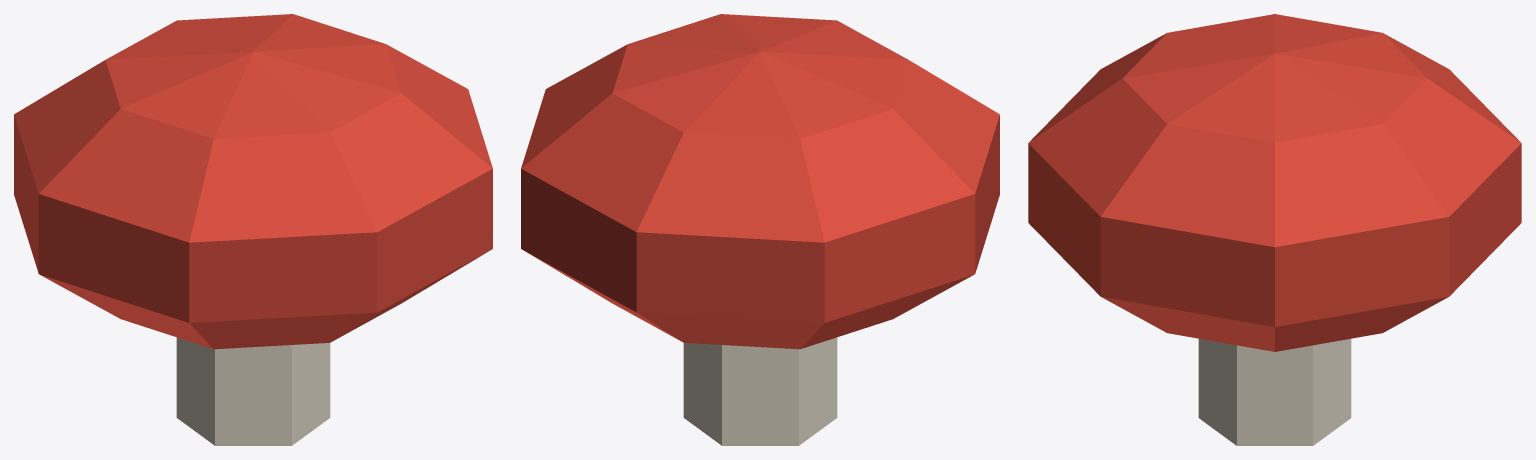
Rendered from mushroom.glb.
3 renders of one model, left to right at view 1: azimuth 30°, elevation 25°; view 2: azimuth 150°, elevation 25°; view 3: azimuth 270°, elevation 25°, orthographic.
Parts seen in each view (by area): view 1: mushroom; view 2: mushroom; view 3: mushroom.
Boxes of the visible parts, left/top/right/bottom form: mushroom: left=14, top=14, right=492, bottom=445; mushroom: left=521, top=14, right=999, bottom=445; mushroom: left=1028, top=14, right=1521, bottom=445.
Bounding box in the file's own units: 0.3234 × 0.2635 × 0.3234.
